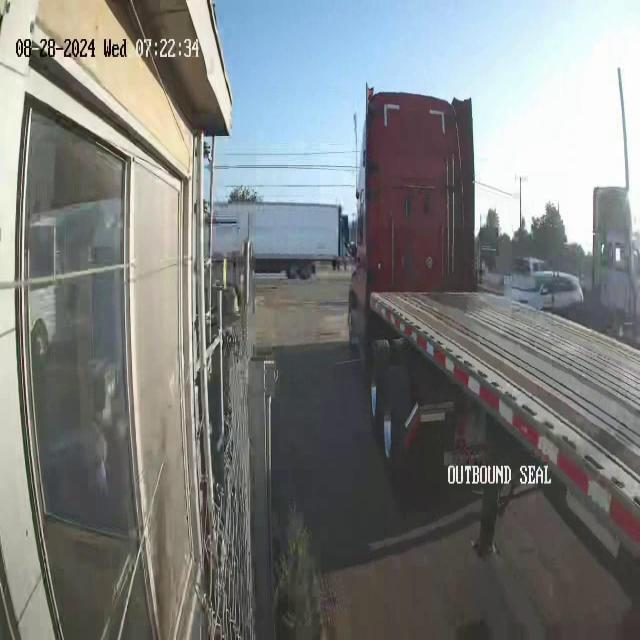TRUCK_OUT: (343, 85, 630, 558)
